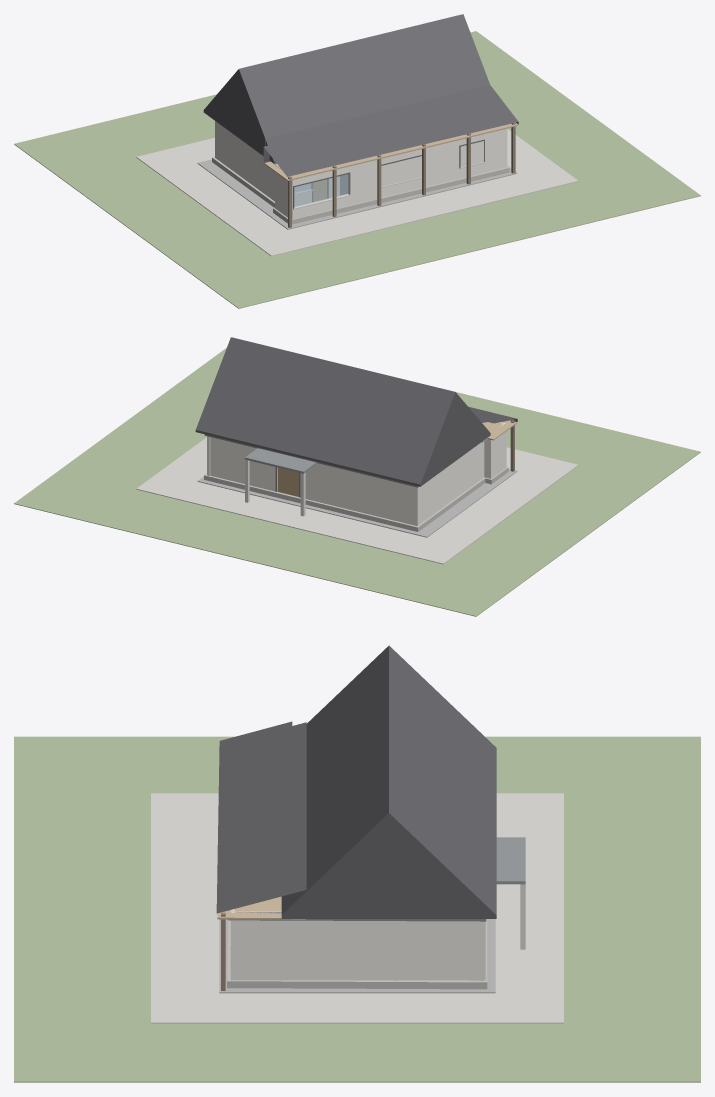
The model's file is apartment_sample.glb.
3 renders of one model, top to bottom at view 1: azimuth 30°, elevation 25°; view 2: azimuth 150°, elevation 25°; view 3: azimuth 270°, elevation 25°, orthographic. The views are drawn at different scales.
Visible parts, largest first — view 1: world; view 2: world; view 3: world.
Part boxes in pixels (x1=…): world: x1=14, y1=14, x2=700, y2=308; world: x1=14, y1=337, x2=700, y2=616; world: x1=14, y1=645, x2=700, y2=1082.
Bounding box in the file's own units: 29.8 × 7.41 × 25.09.
